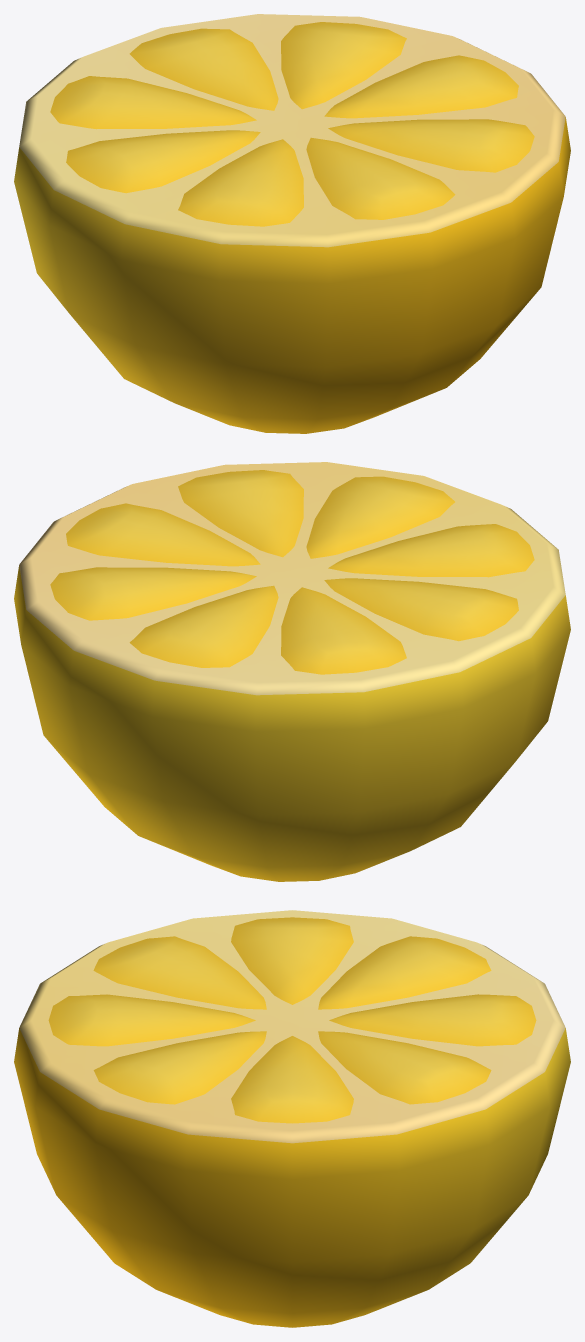
File: lemon_002.fbx
3 views of the same model, one above another, from view 1: azimuth 30°, elevation 25°; view 2: azimuth 150°, elevation 25°; view 3: azimuth 270°, elevation 25° (orthographic).
Visible parts, largest first — view 1: lemon_002; view 2: lemon_002; view 3: lemon_002.
Part boxes in pixels (box(x1,y1,x2,y2)): lemon_002: box(14, 14, 570, 433); lemon_002: box(14, 462, 570, 881); lemon_002: box(14, 910, 570, 1327).
Size of the model in its own units: 10.98 by 10.98 by 6.36.
